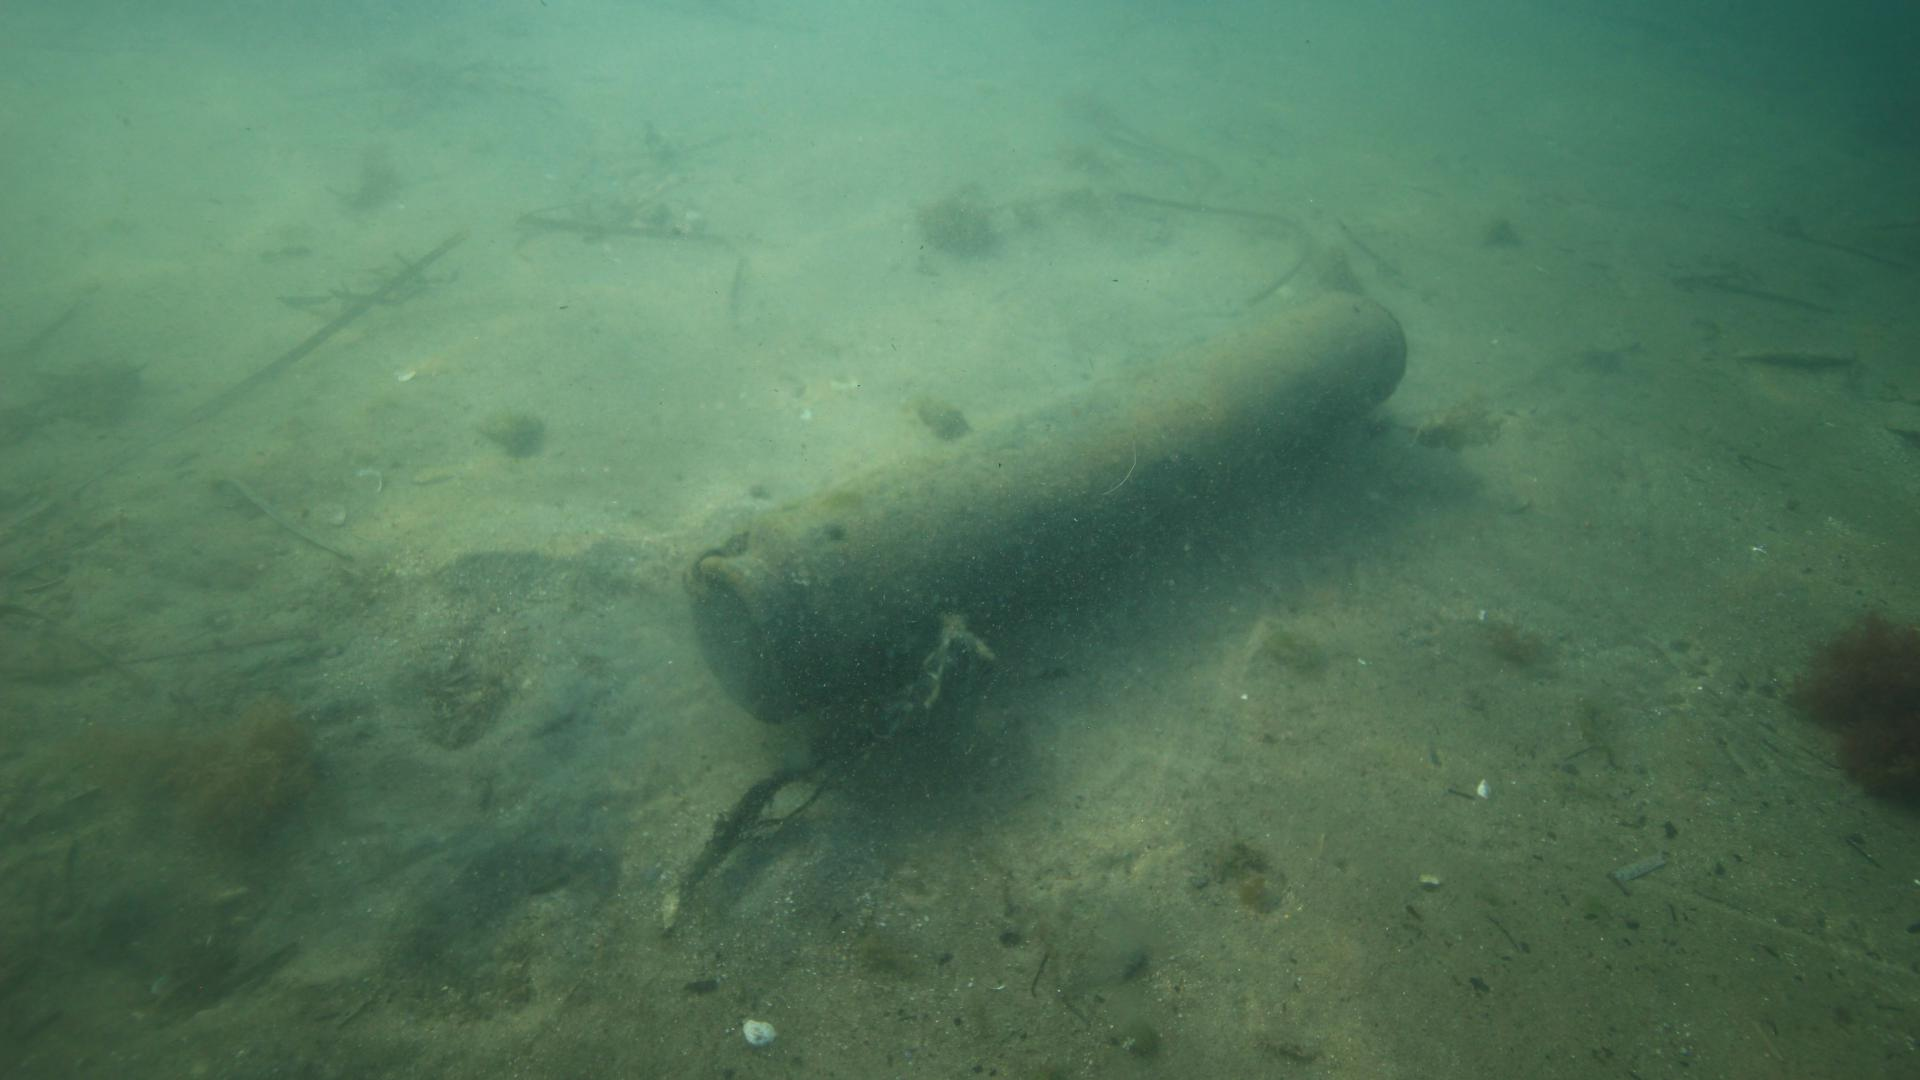eel fish trap: (686, 286, 1408, 731)
